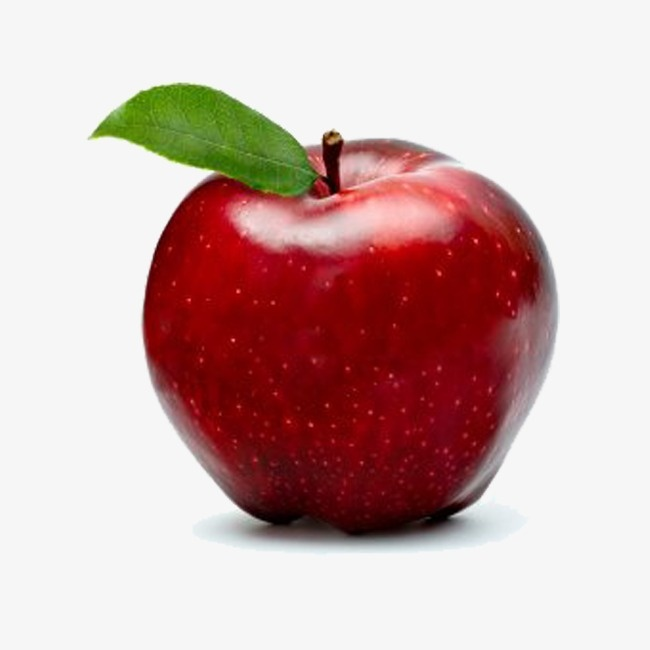apple: (144, 137, 565, 539)
